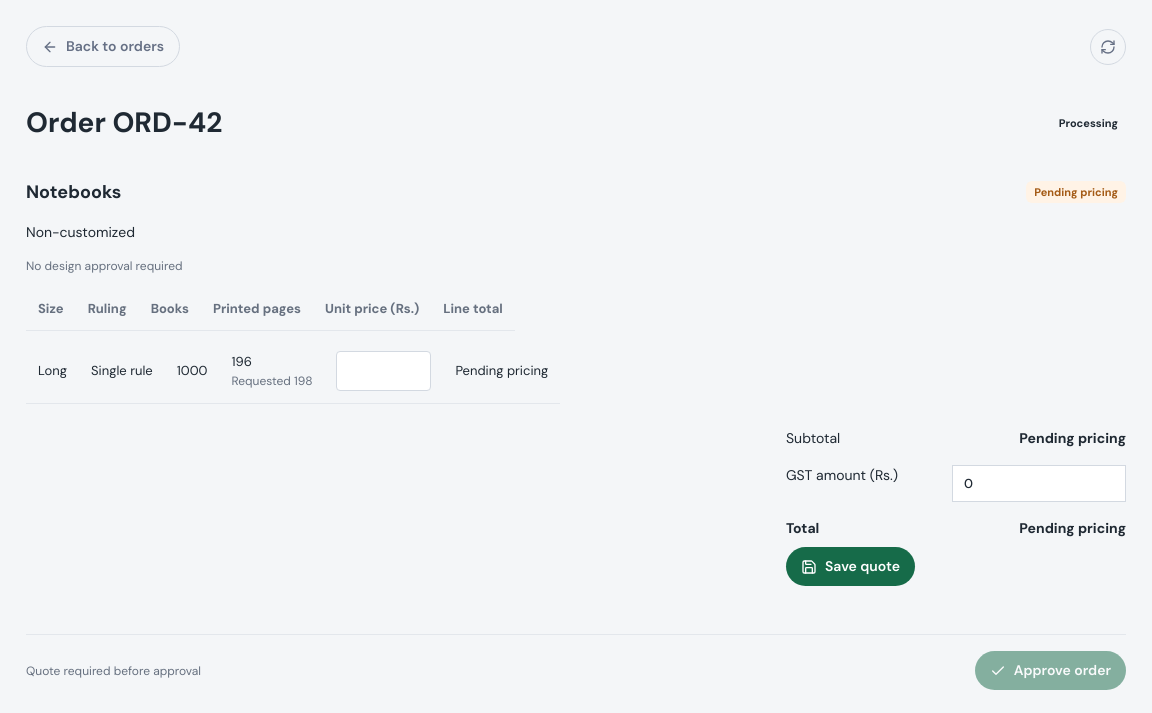
Test: quotes persisted lines in paise, refreshes computed totals, and gates approval on the quote
This screenshot has width=1152, height=713.
expect the button "Approve order" is disabled: met, box top-left (975, 651), bottom-right (1126, 690)
expect the text "GST amount (Rs.)" is shown: met, box top-left (786, 466), bottom-right (898, 484)
Type "45.50" into the number field named "Unit price for line 1" at point(384, 371), box top-left (336, 351), bottom-right (431, 390)
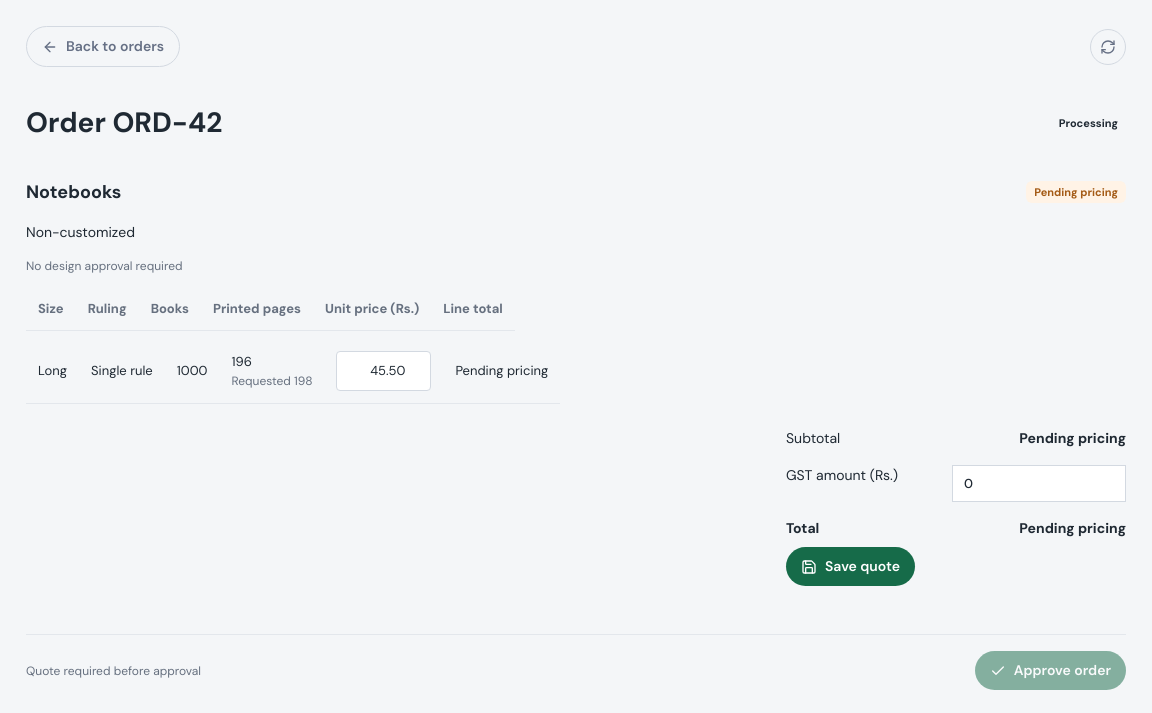
Replace the text in the number field named "GST amount in rupees" with "120" at point(1039, 483), box top-left (952, 464), bottom-right (1126, 502)
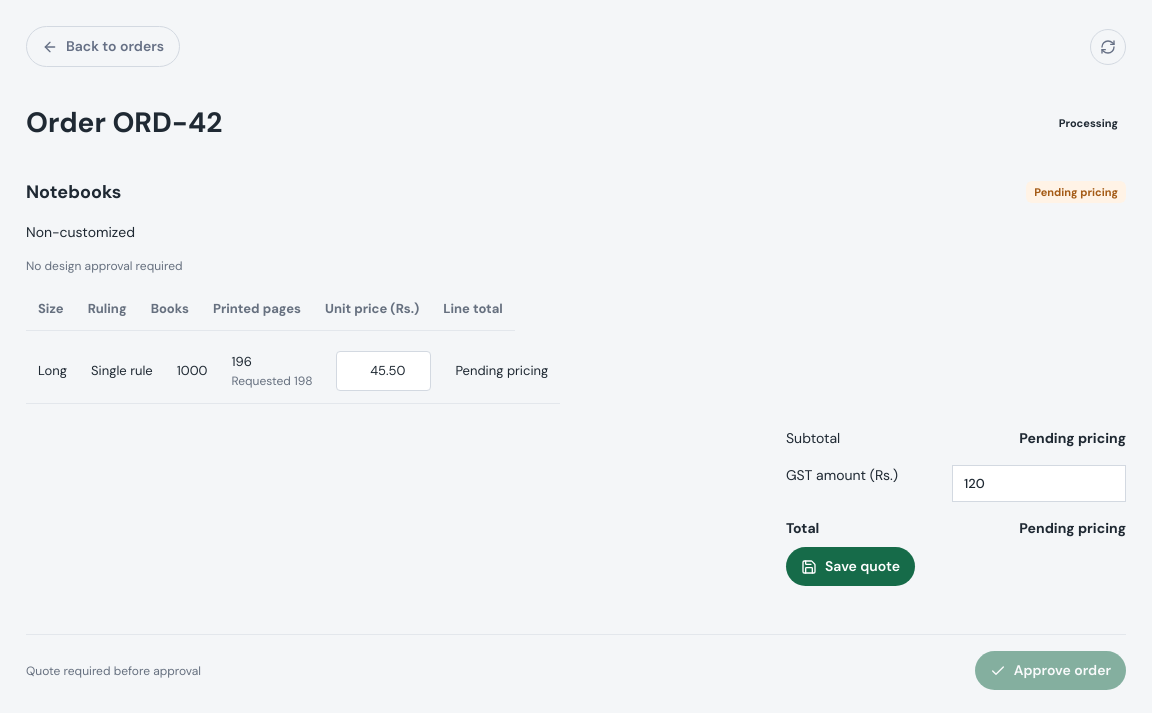
Click the button "Save quote" at point(850, 566), box top-left (786, 547), bottom-right (915, 586)
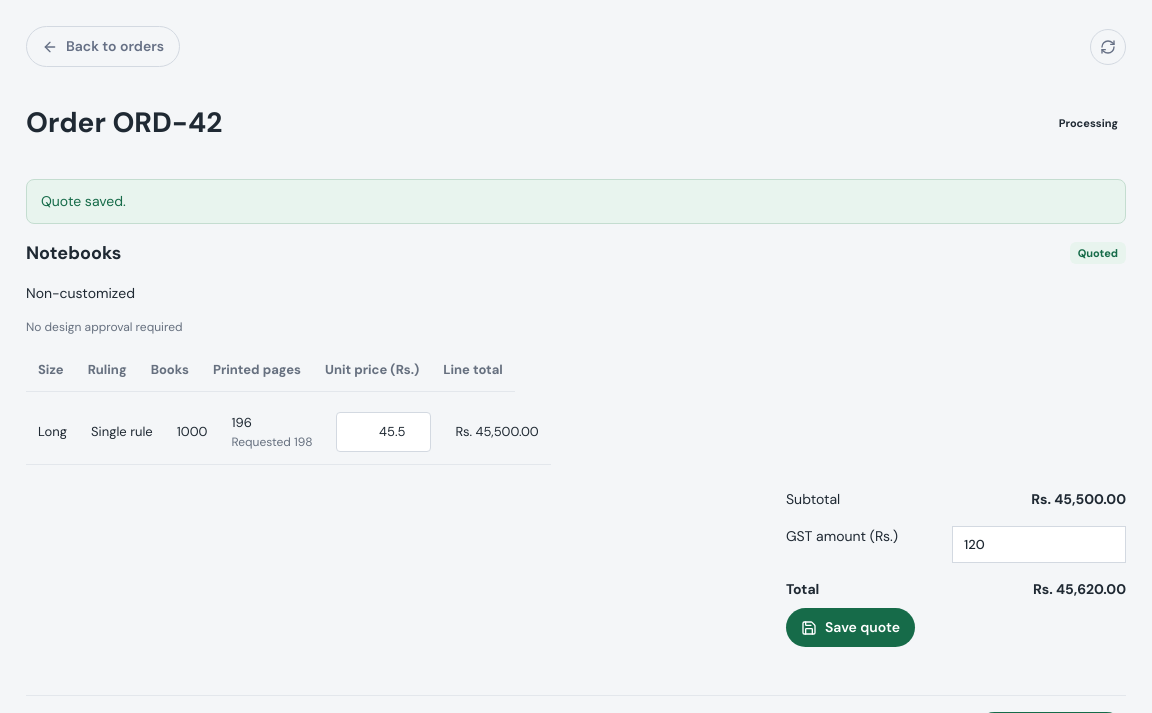
expect the text "Quote saved." is shown: met, box top-left (26, 178), bottom-right (1126, 224)
expect the text "Rs. 45,620.00" is shown: met, box top-left (1033, 579), bottom-right (1126, 600)
